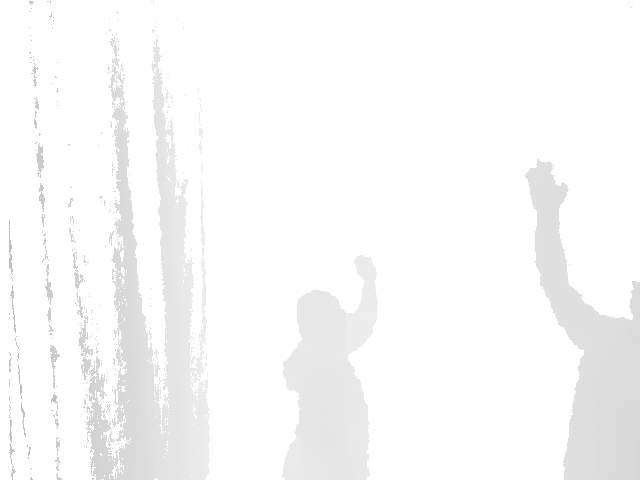hand: (525, 161, 569, 211), (353, 253, 379, 284)
head: (296, 290, 350, 352)
person: (524, 161, 640, 480), (278, 253, 379, 480)
